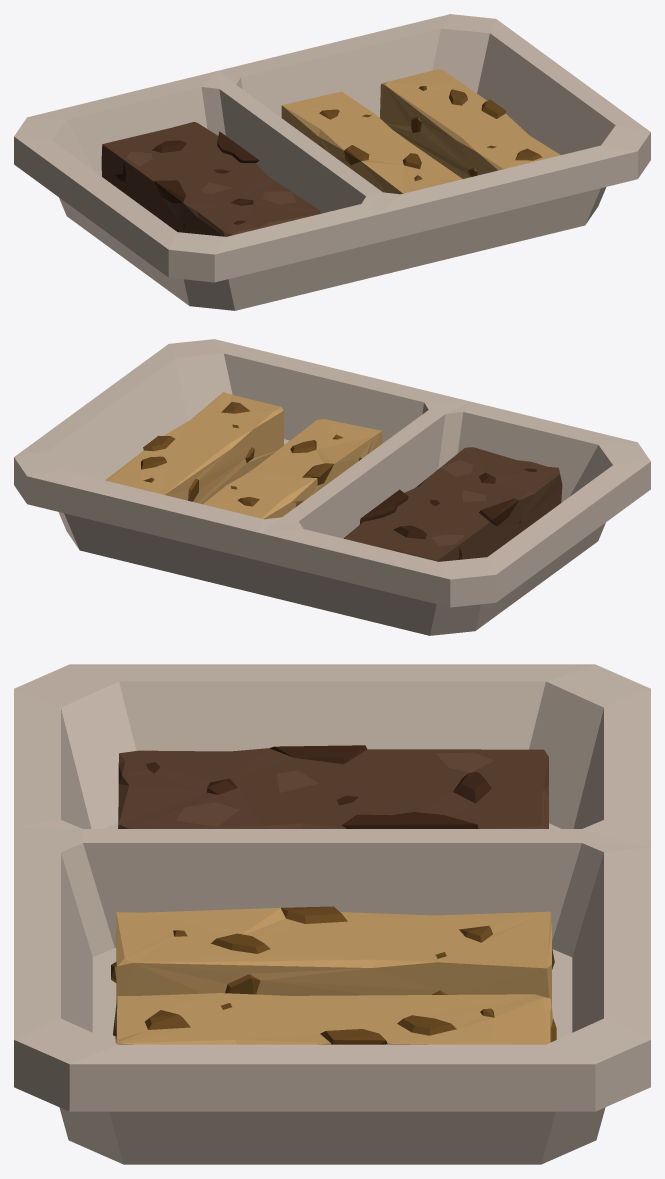
File: SM_Props_Food_08.fbx
3 renders of one model, top to bottom at view 1: azimuth 30°, elevation 25°; view 2: azimuth 150°, elevation 25°; view 3: azimuth 270°, elevation 25°, orthographic. The views are drawn at different scales.
Parts seen in each view (by area): view 1: SM_Props_Food_08; view 2: SM_Props_Food_08; view 3: SM_Props_Food_08.
Part boxes in pixels (left/top/right/bottom): SM_Props_Food_08: left=14, top=14, right=650, bottom=310; SM_Props_Food_08: left=14, top=339, right=650, bottom=635; SM_Props_Food_08: left=14, top=664, right=650, bottom=1164.
Size of the model in its own units: 0.1735 by 0.0269 by 0.1168.
